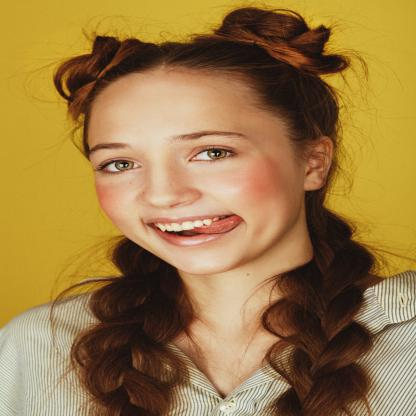Eye: (187, 146, 240, 164), (93, 158, 142, 176)
Mouth: (145, 214, 242, 247)
Nose: (138, 164, 200, 208)
